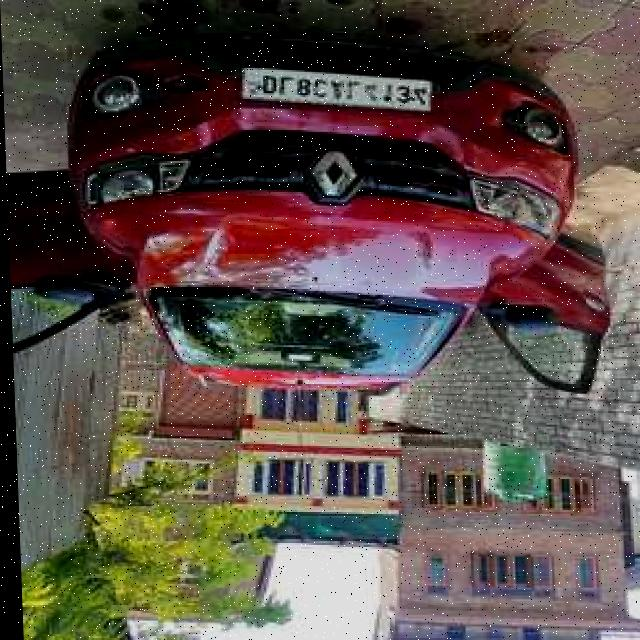plate: (233, 72, 440, 110)
